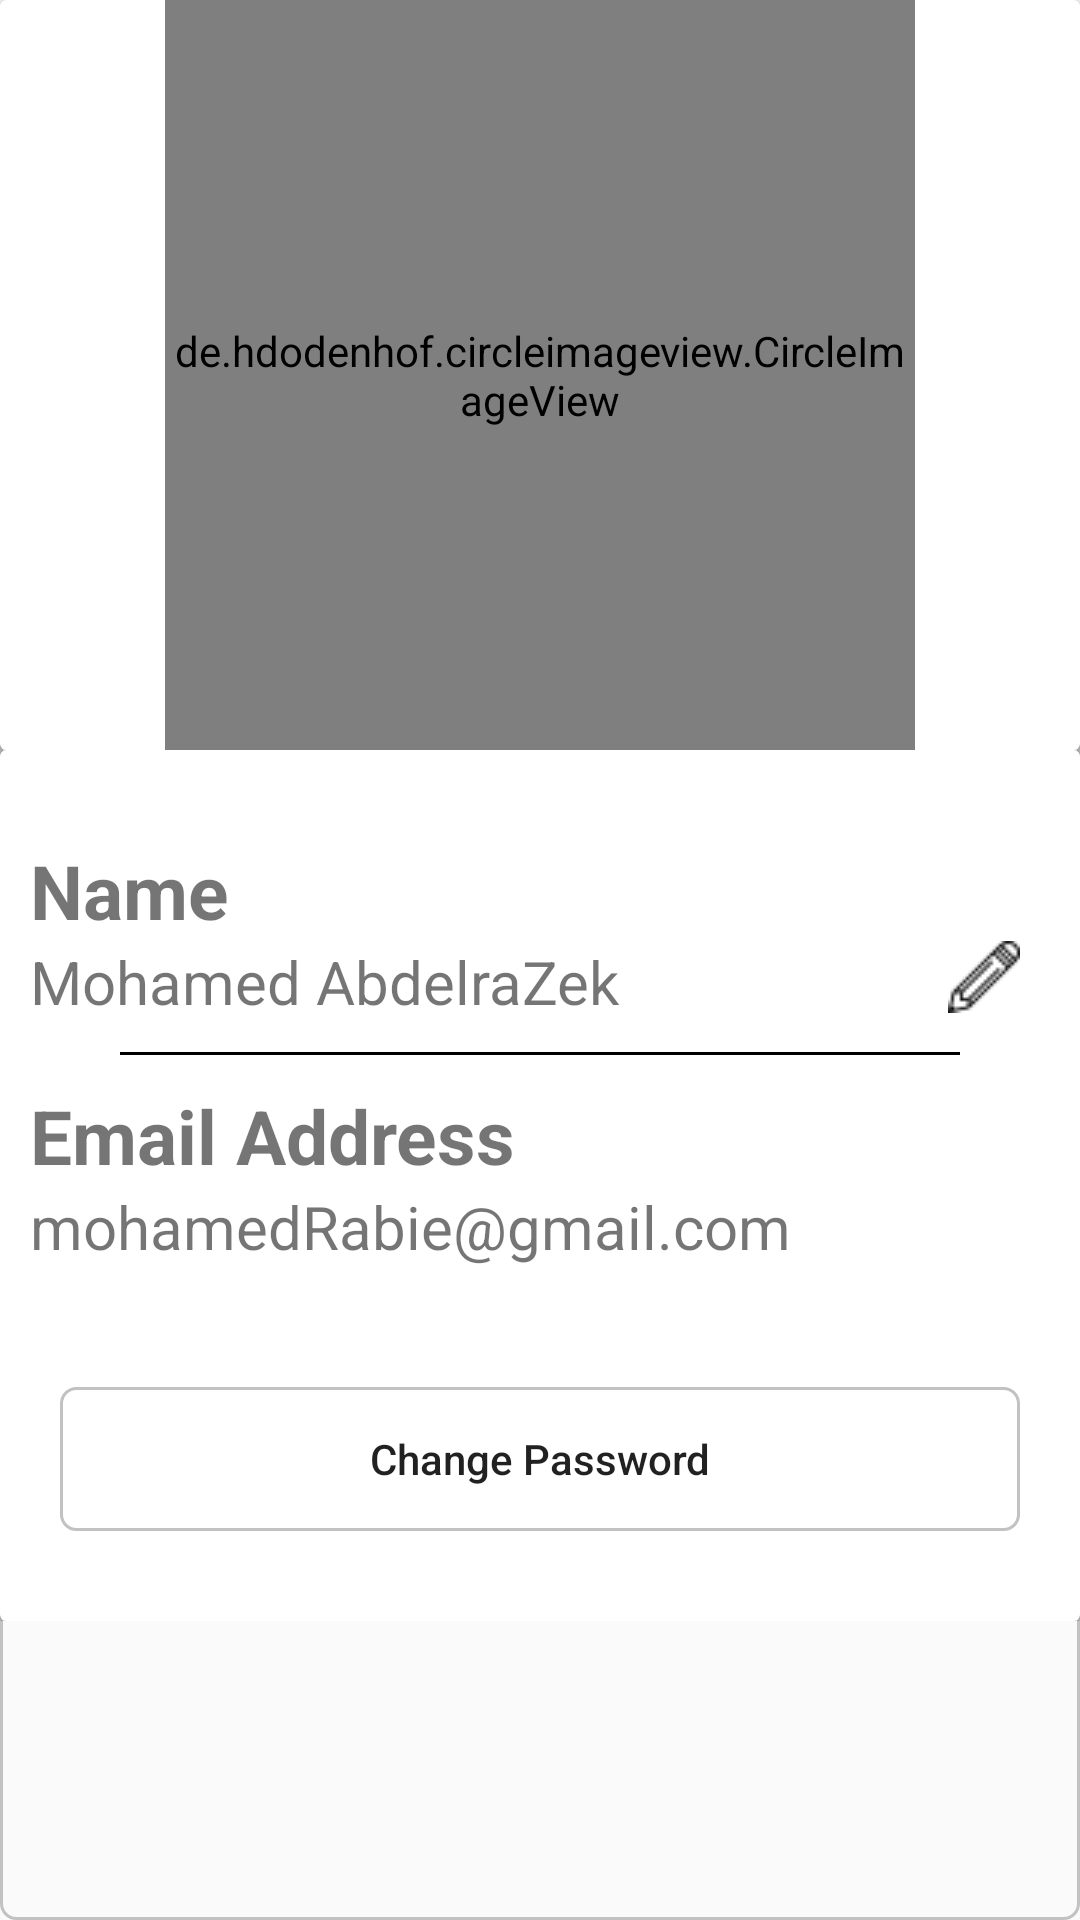

Icons on this 1080 x 1920 Android screen, each with its box as bbox=[x1, y1, x2, y2]:
edit: bbox=[948, 941, 1020, 1013]
